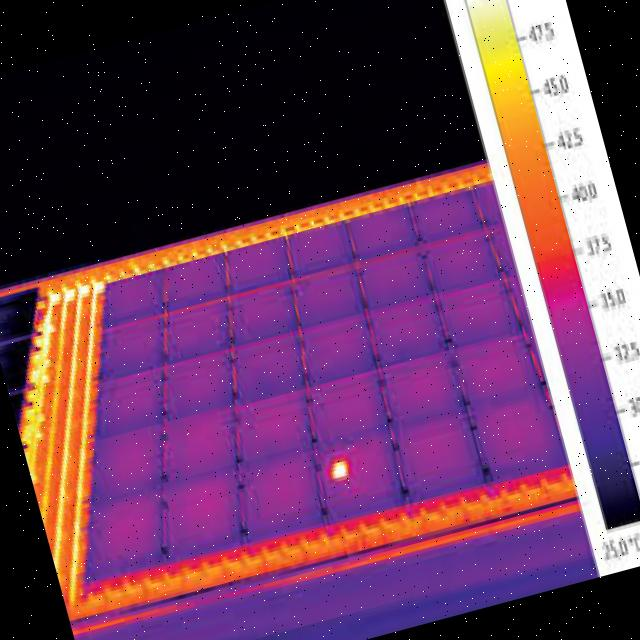Hotspot: (328, 460, 352, 482)
